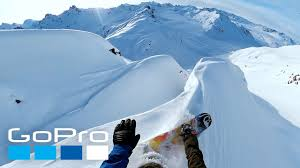snowboard: (138, 112, 215, 156)
